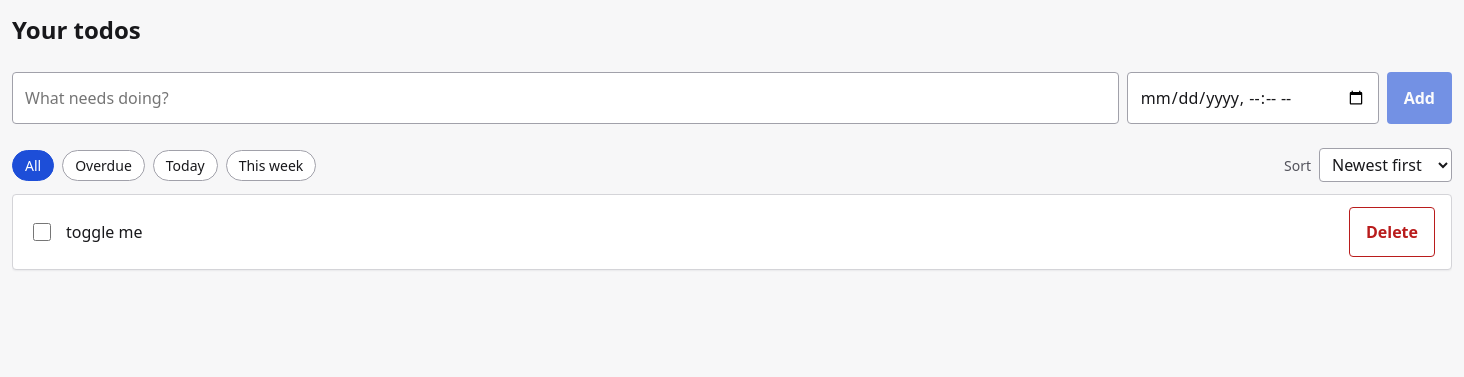
Scenario: <TodoPage /> › reverts the todo state when toggle API fails
Click the checkbox. click: (42, 232)
box: 33,223 -> 51,241
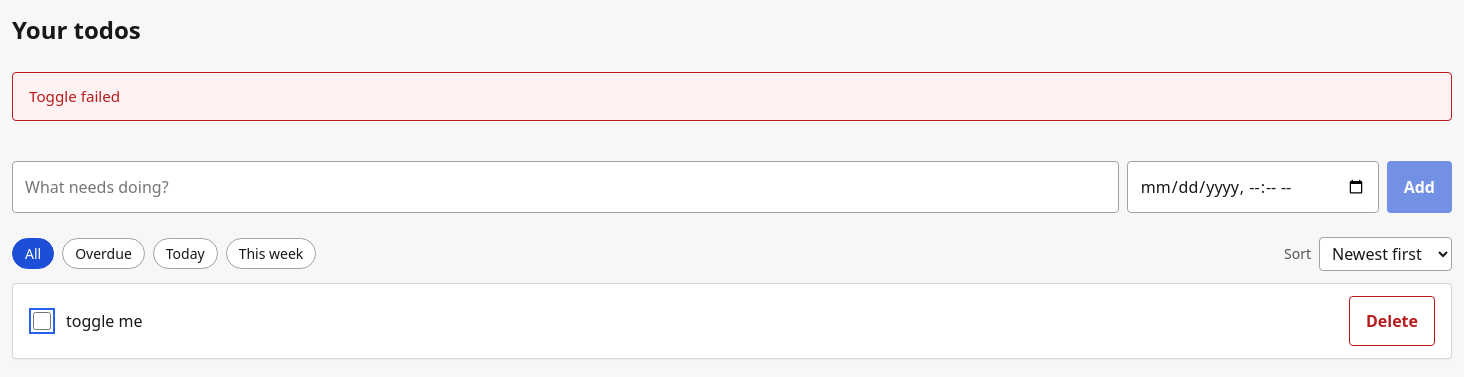
Expected: the checkbox is not checked, 33,312 -> 51,330
Expected: the message reads "Toggle failed", 29,86 -> 120,106
